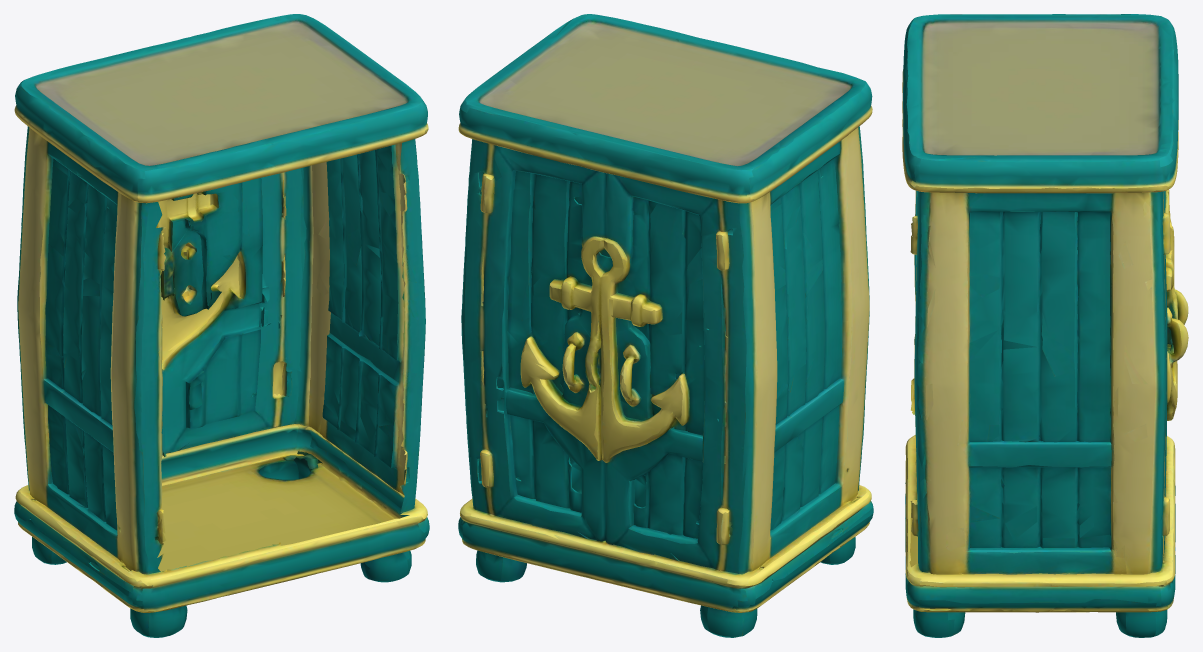
Rendered from body.glb.
3 renders of one model, left to right at view 1: azimuth 30°, elevation 25°; view 2: azimuth 150°, elevation 25°; view 3: azimuth 270°, elevation 25°, orthographic. The views are drawn at different scales.
Visible parts, largest first — view 1: source_surface_0; view 2: source_surface_0; view 3: source_surface_0.
Boxes of the visible parts, box(x1,y1,x2,y2) form: source_surface_0: box(14, 14, 429, 637); source_surface_0: box(458, 14, 873, 637); source_surface_0: box(902, 14, 1188, 637).
Size of the model in its own units: 0.5355 by 0.8 by 0.4256.
1 material, 1 textured.
